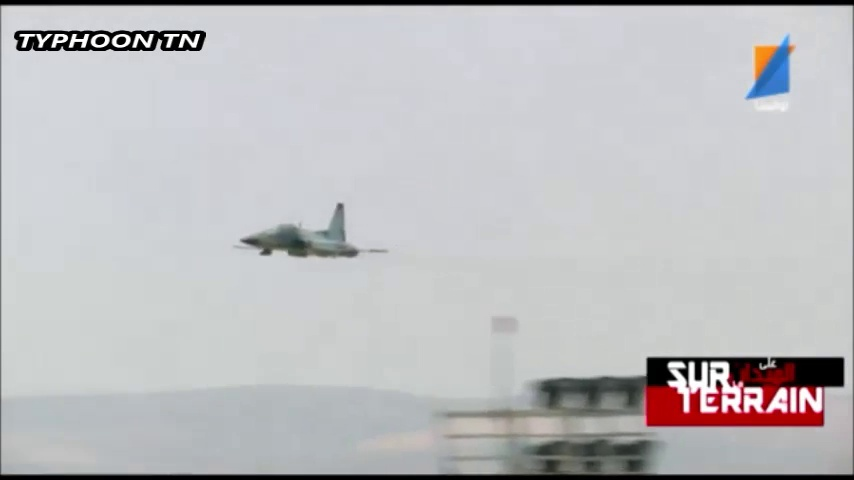Airplane: (232, 201, 387, 261)
